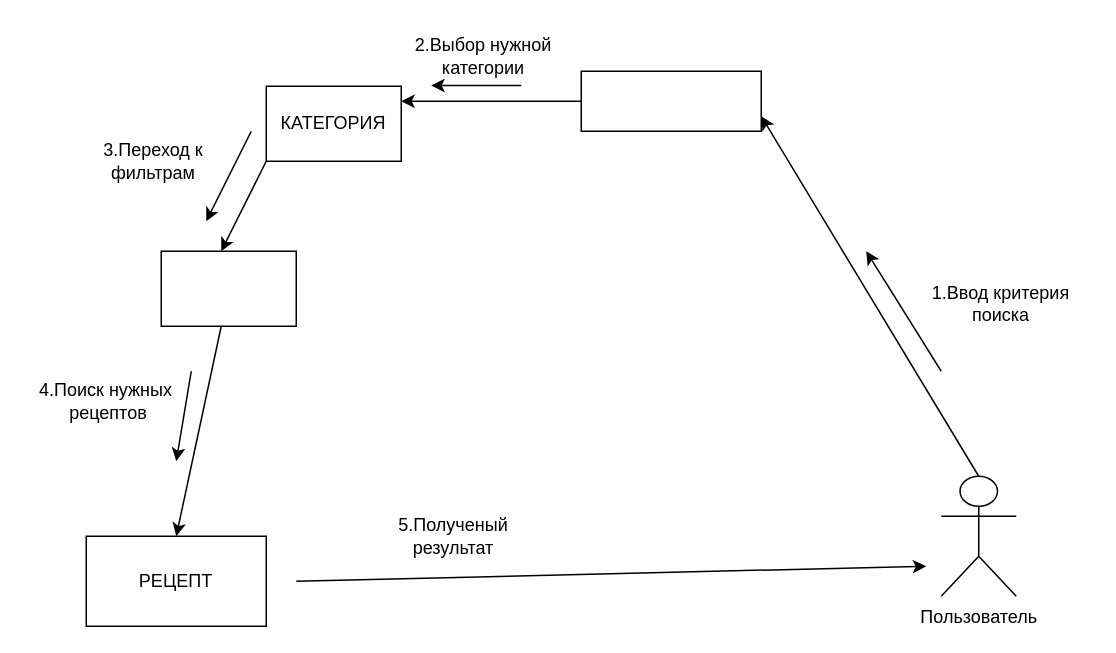
This 1116x653 diagram has some shape labels left out. Each missing label, with the box of its shape:
ПОЛЕ ДЛЯ ПОИСКА: (580, 70, 761, 131)
ФИЛЬТР: (160, 250, 296, 326)
